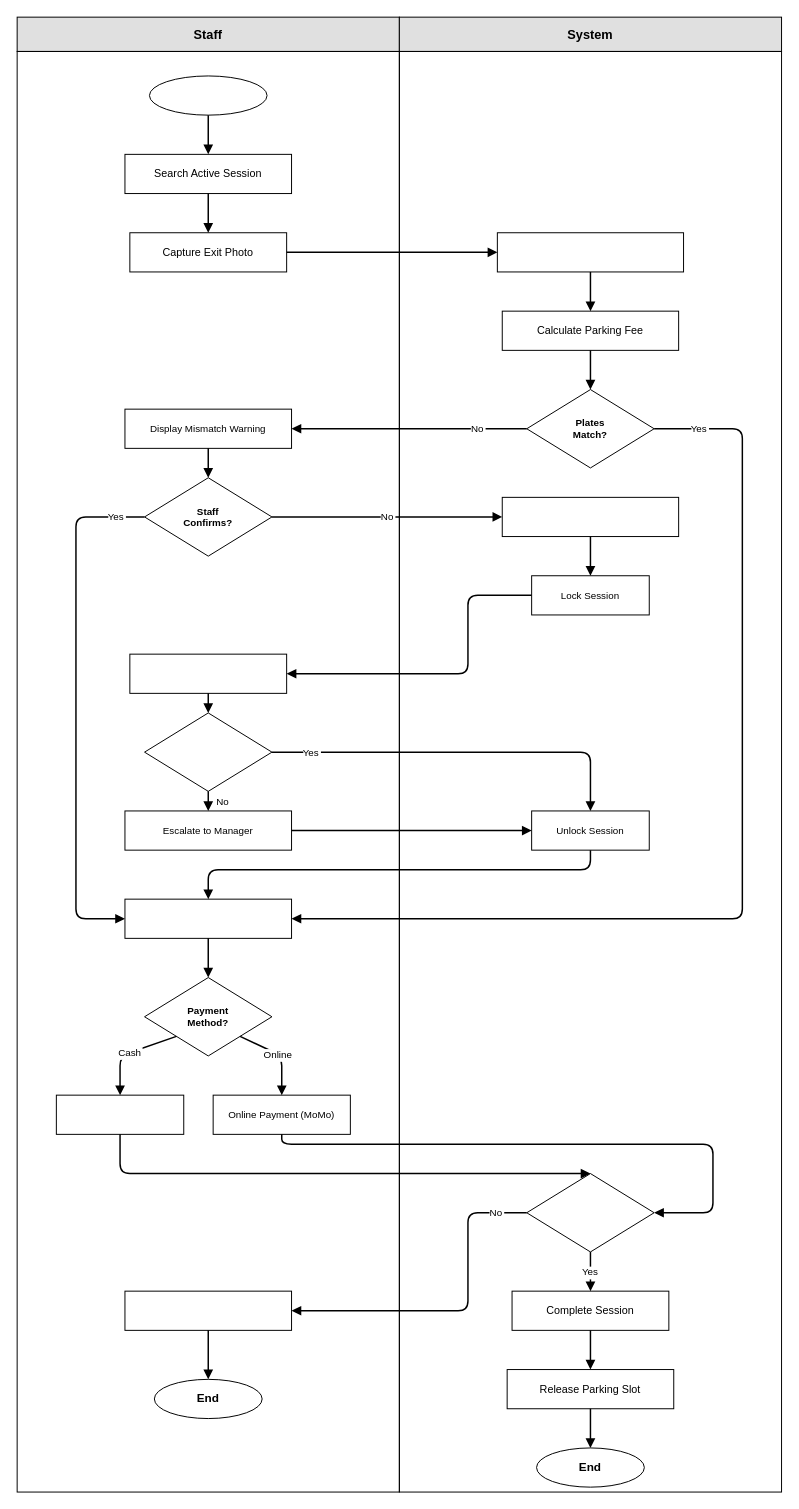
This 799x1509 diagram has some shape labels left out. Each missing label, with the centre of its shape:
ALPR: Read License Plate: pixel 590 252
Collect Cash: pixel 119 1114
Create Exception Report: pixel 590 516
Display Fee to Staff: pixel 208 918
Display Payment Error: pixel 208 1310
Payment Success?: pixel 590 1212
Resolve Exception: pixel 208 673
Resolved?: pixel 208 751
Start: pixel 207 95
